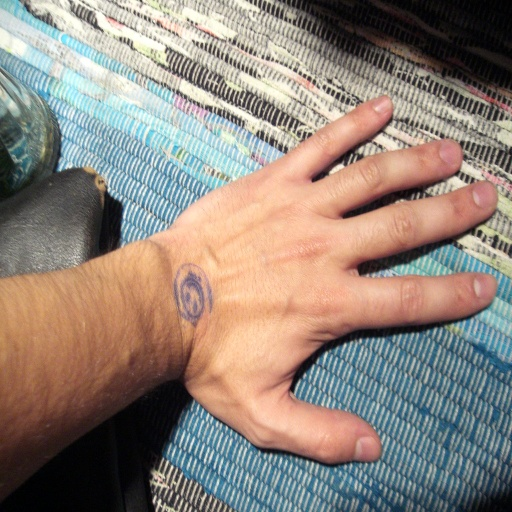hand: (180, 94, 497, 466)
